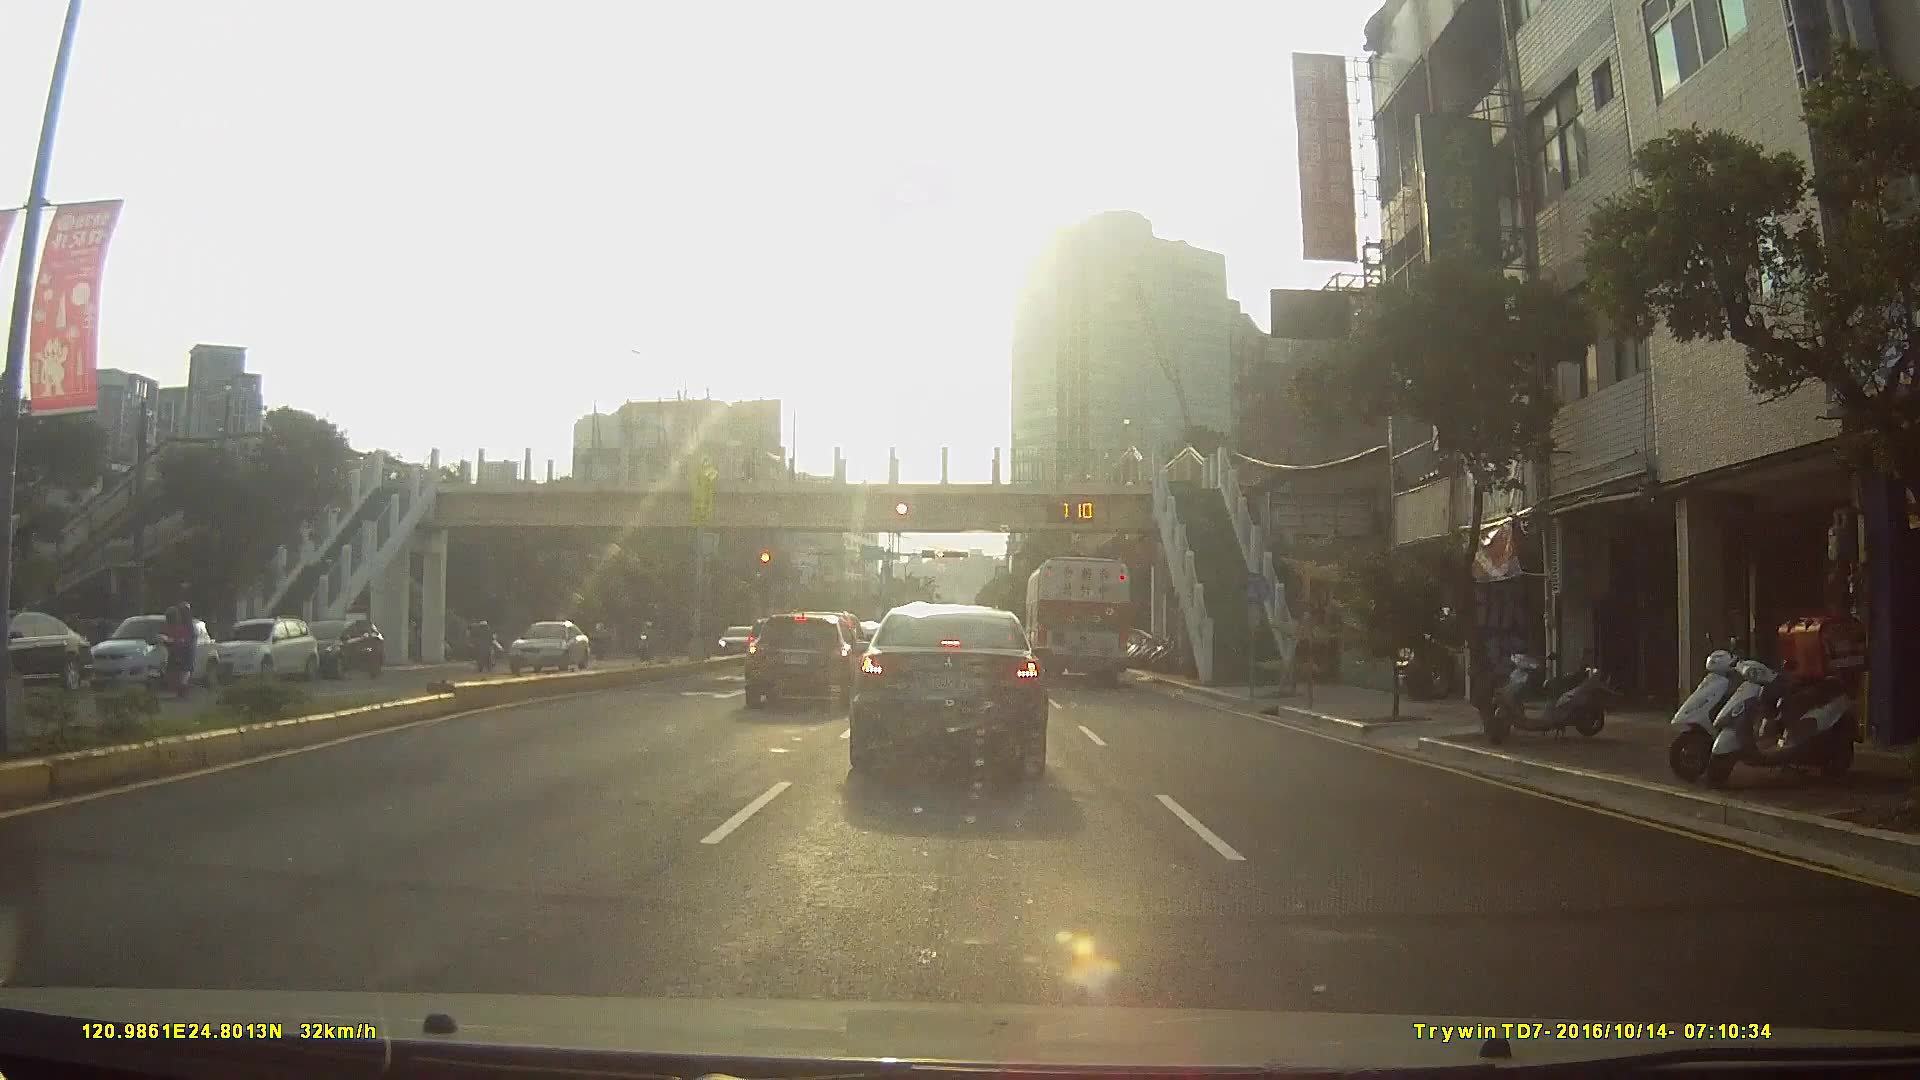rider: (124, 600, 203, 704)
vehicle: (844, 599, 1050, 776), (1023, 550, 1133, 683), (738, 605, 864, 705), (79, 611, 213, 688), (202, 614, 317, 680), (0, 608, 88, 690), (294, 616, 384, 677), (498, 618, 584, 674), (714, 624, 755, 657)
